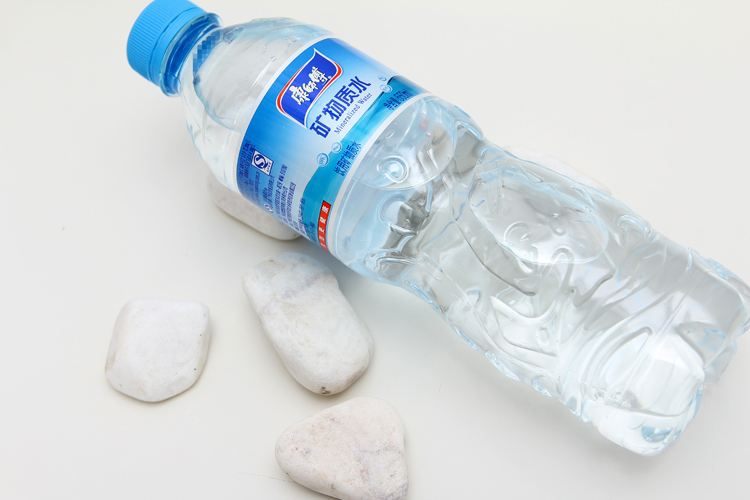amwater: (116, 1, 746, 460)
